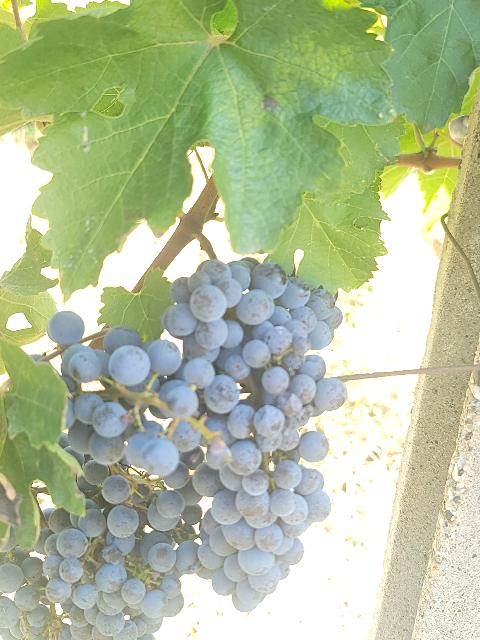grapes: (164, 260, 348, 611), (0, 461, 198, 640), (48, 311, 200, 466)
